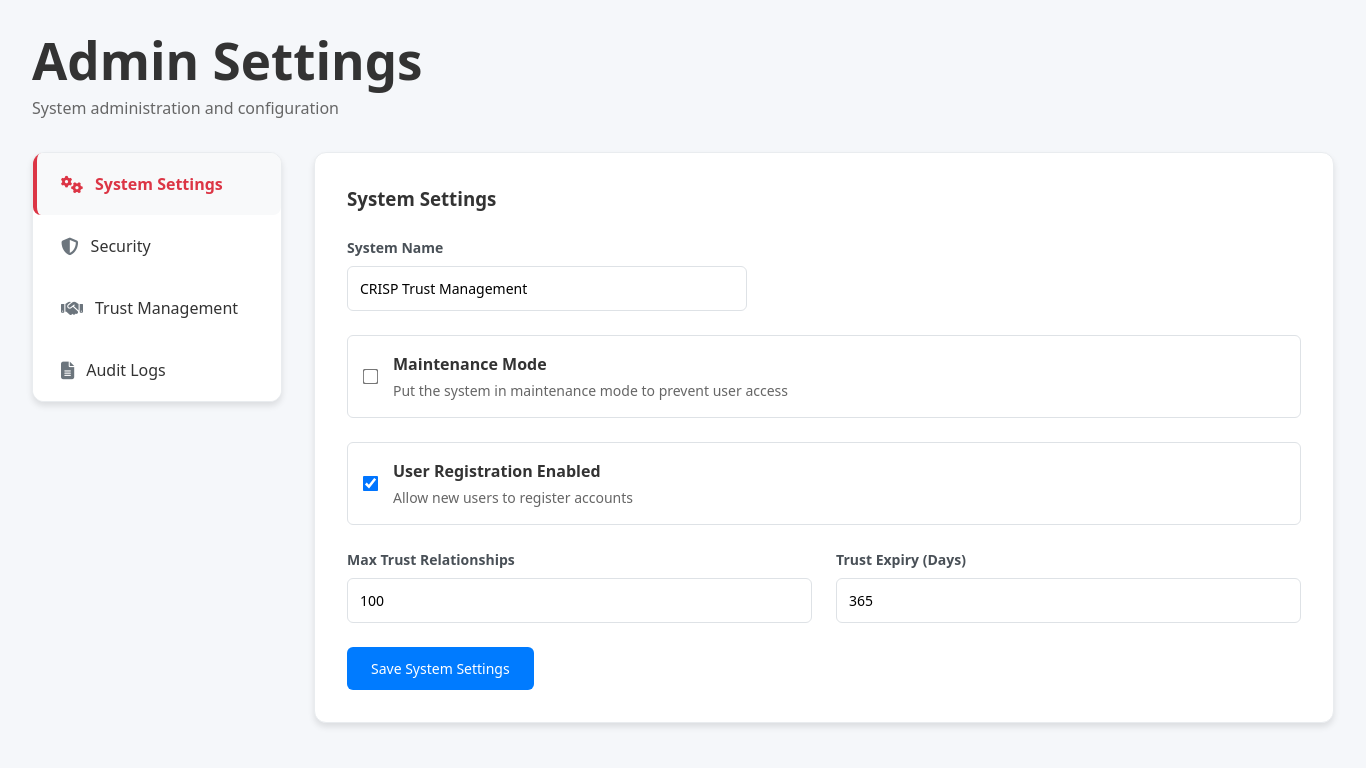
Test: AdminSettings Component › switches between tabs correctly
Expected: the heading "Admin Settings" is shown, [32,25,422,95]
Expected: the text "System Name" is shown, [347,238,443,257]
Note: Click Security tab
Click the button "Security": (157, 246) [33,215,281,277]
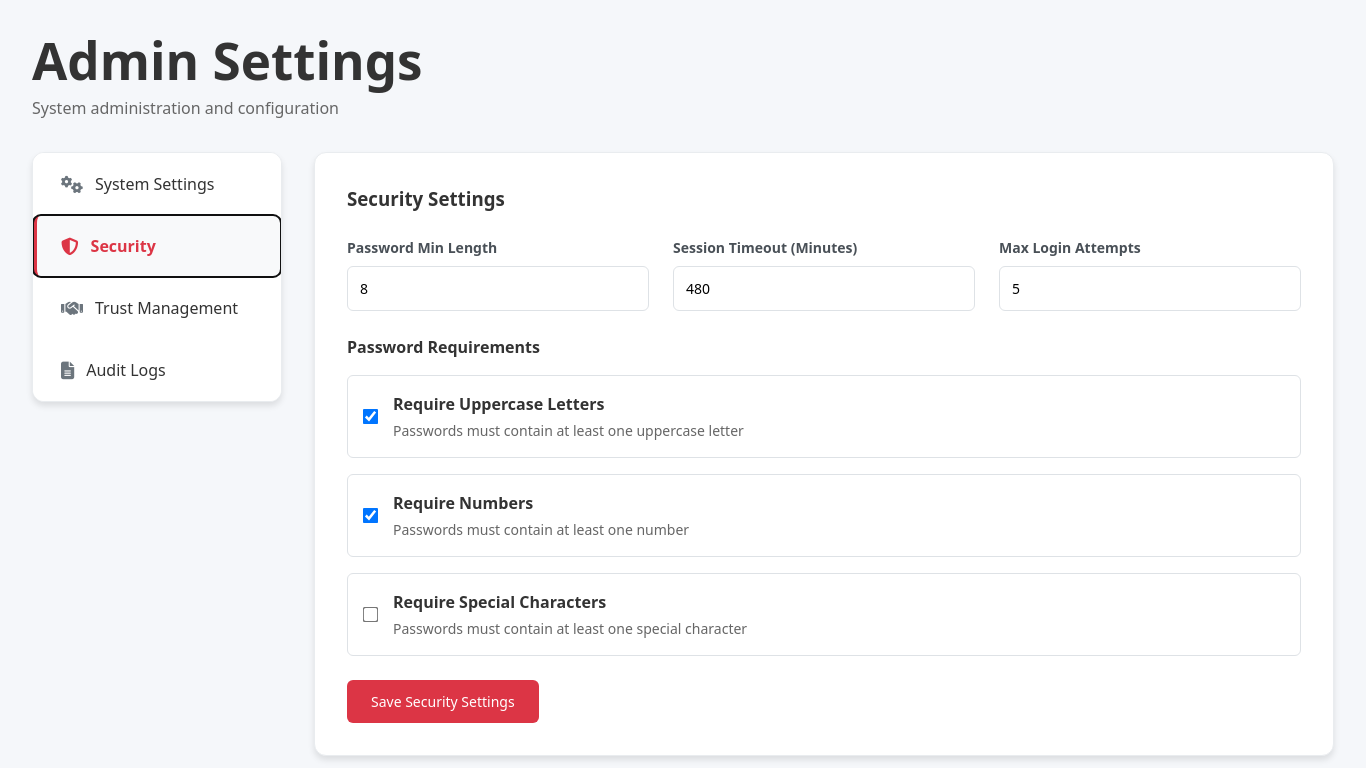
Expected: the text "Password Min Length" is shown, [347,238,497,257]
Expected: the text "Session Timeout (Minutes)" is shown, [673,238,857,257]
Note: Click Trust Management tab
Click the button "Trust Management": (157, 308) [33,277,281,339]
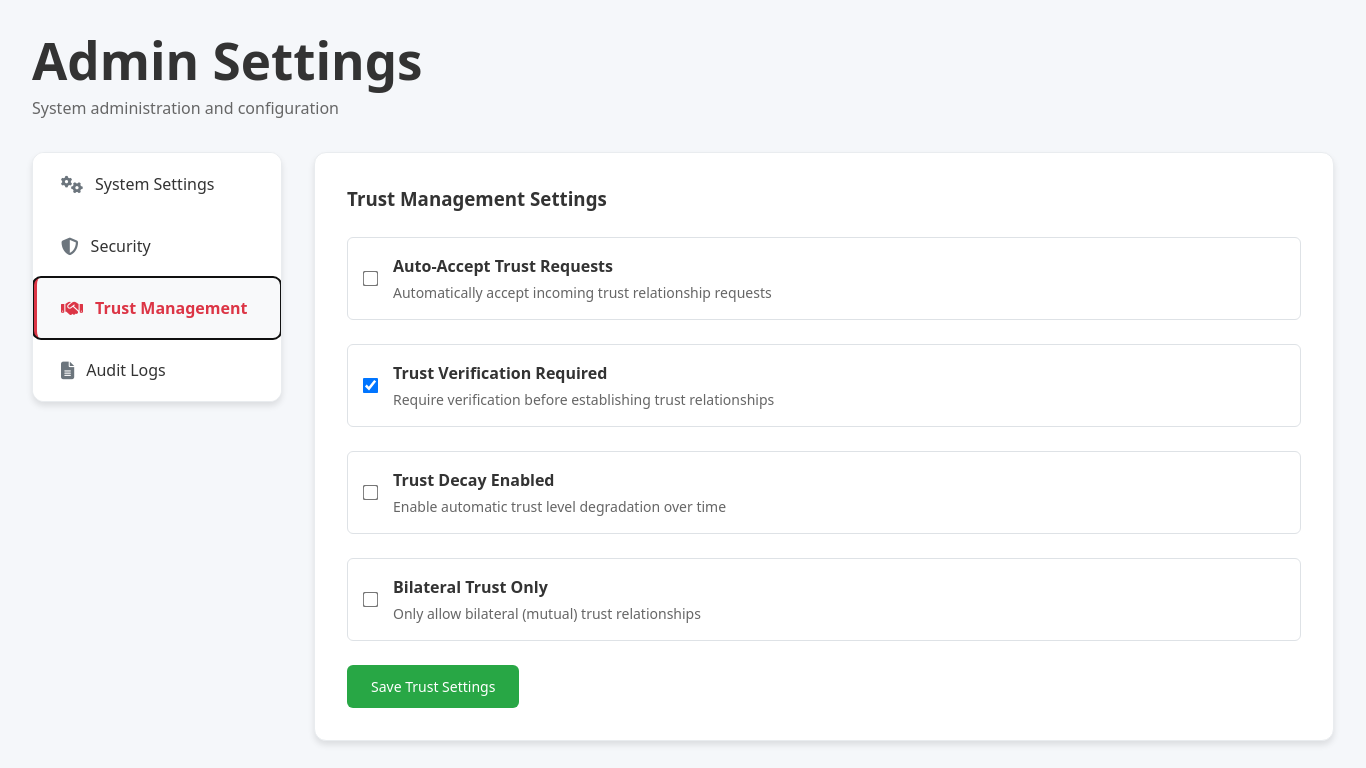
Expected: the heading "Trust Management Settings" is shown, [347,186,607,211]
Expected: the text "Auto-Accept Trust Requests" is shown, [393,255,613,277]
Note: Click Audit Logs tab
Click the button "Audit Logs": (157, 370) [33,339,281,401]
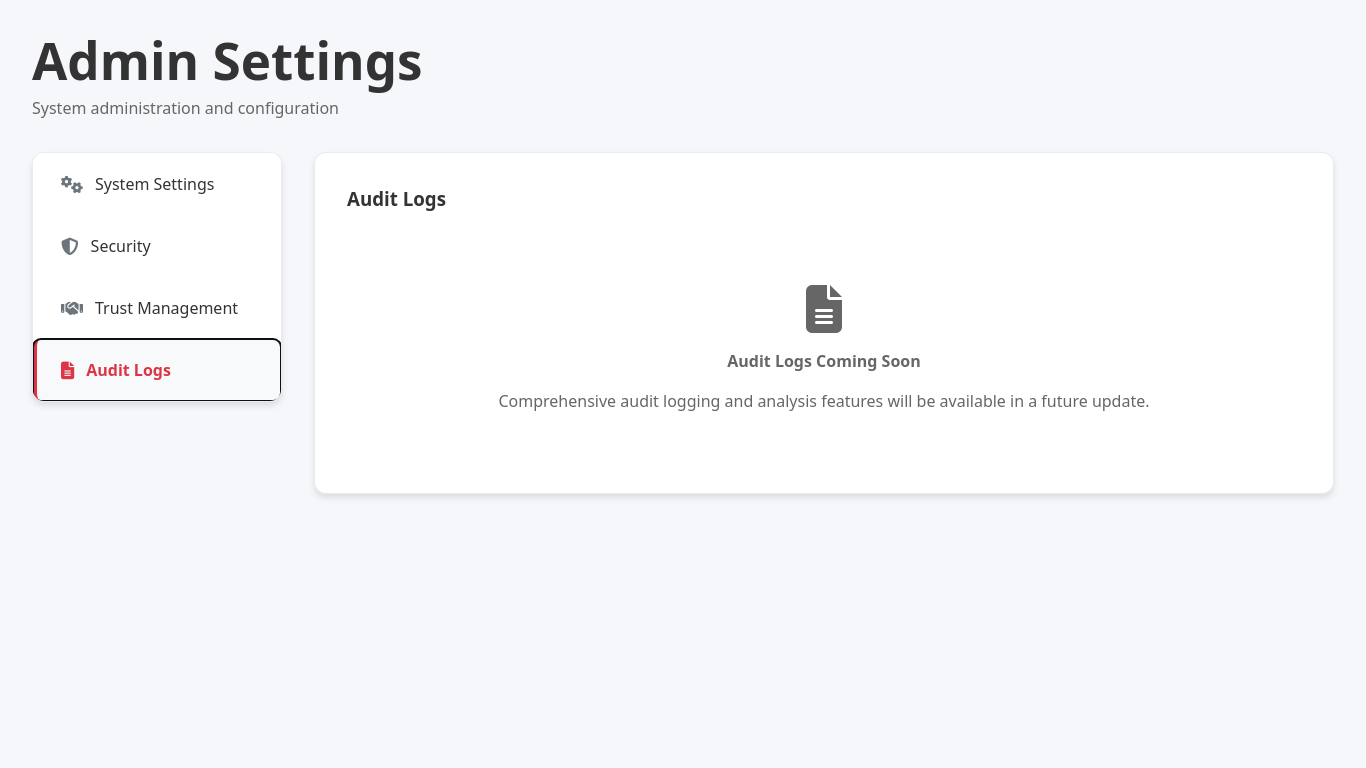
Expected: the heading "Audit Logs Coming Soon" is shown, [727,350,921,372]
